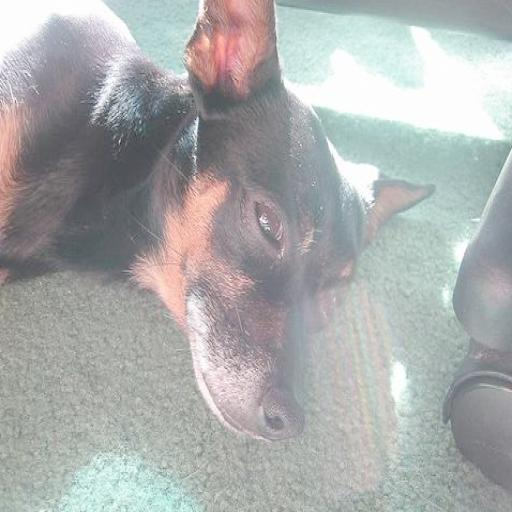dog_face: (146, 0, 432, 449)
